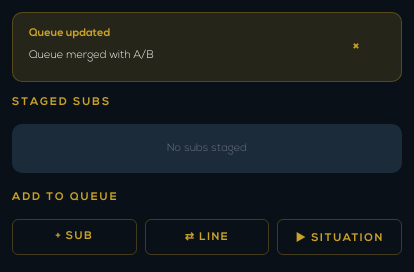
Test: StagingPanel: merge alerts › dismisses alerts when close (×) is clicked
This screenshot has width=414, height=272.
The × in the alert is the only button inside the alert container.
Click the button "×" at (357, 47), box [328,25,385,69]
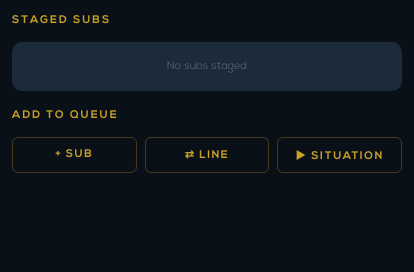
Expected: the text "Queue merged with A/B" is gone
